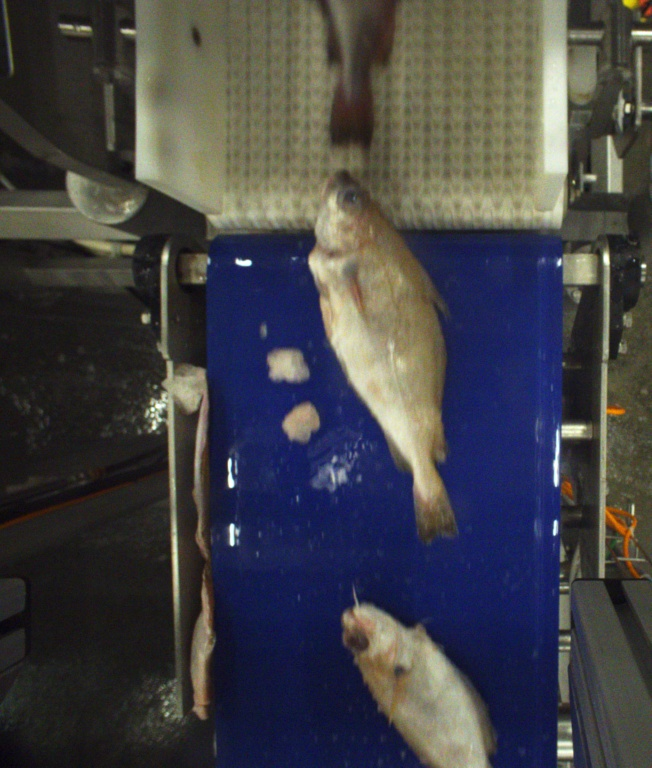BIB: (310, 169, 458, 547)
